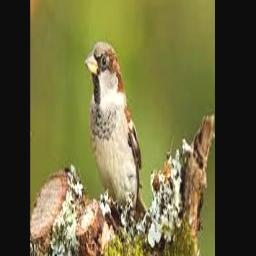Sparrow: (84, 42, 148, 224)
